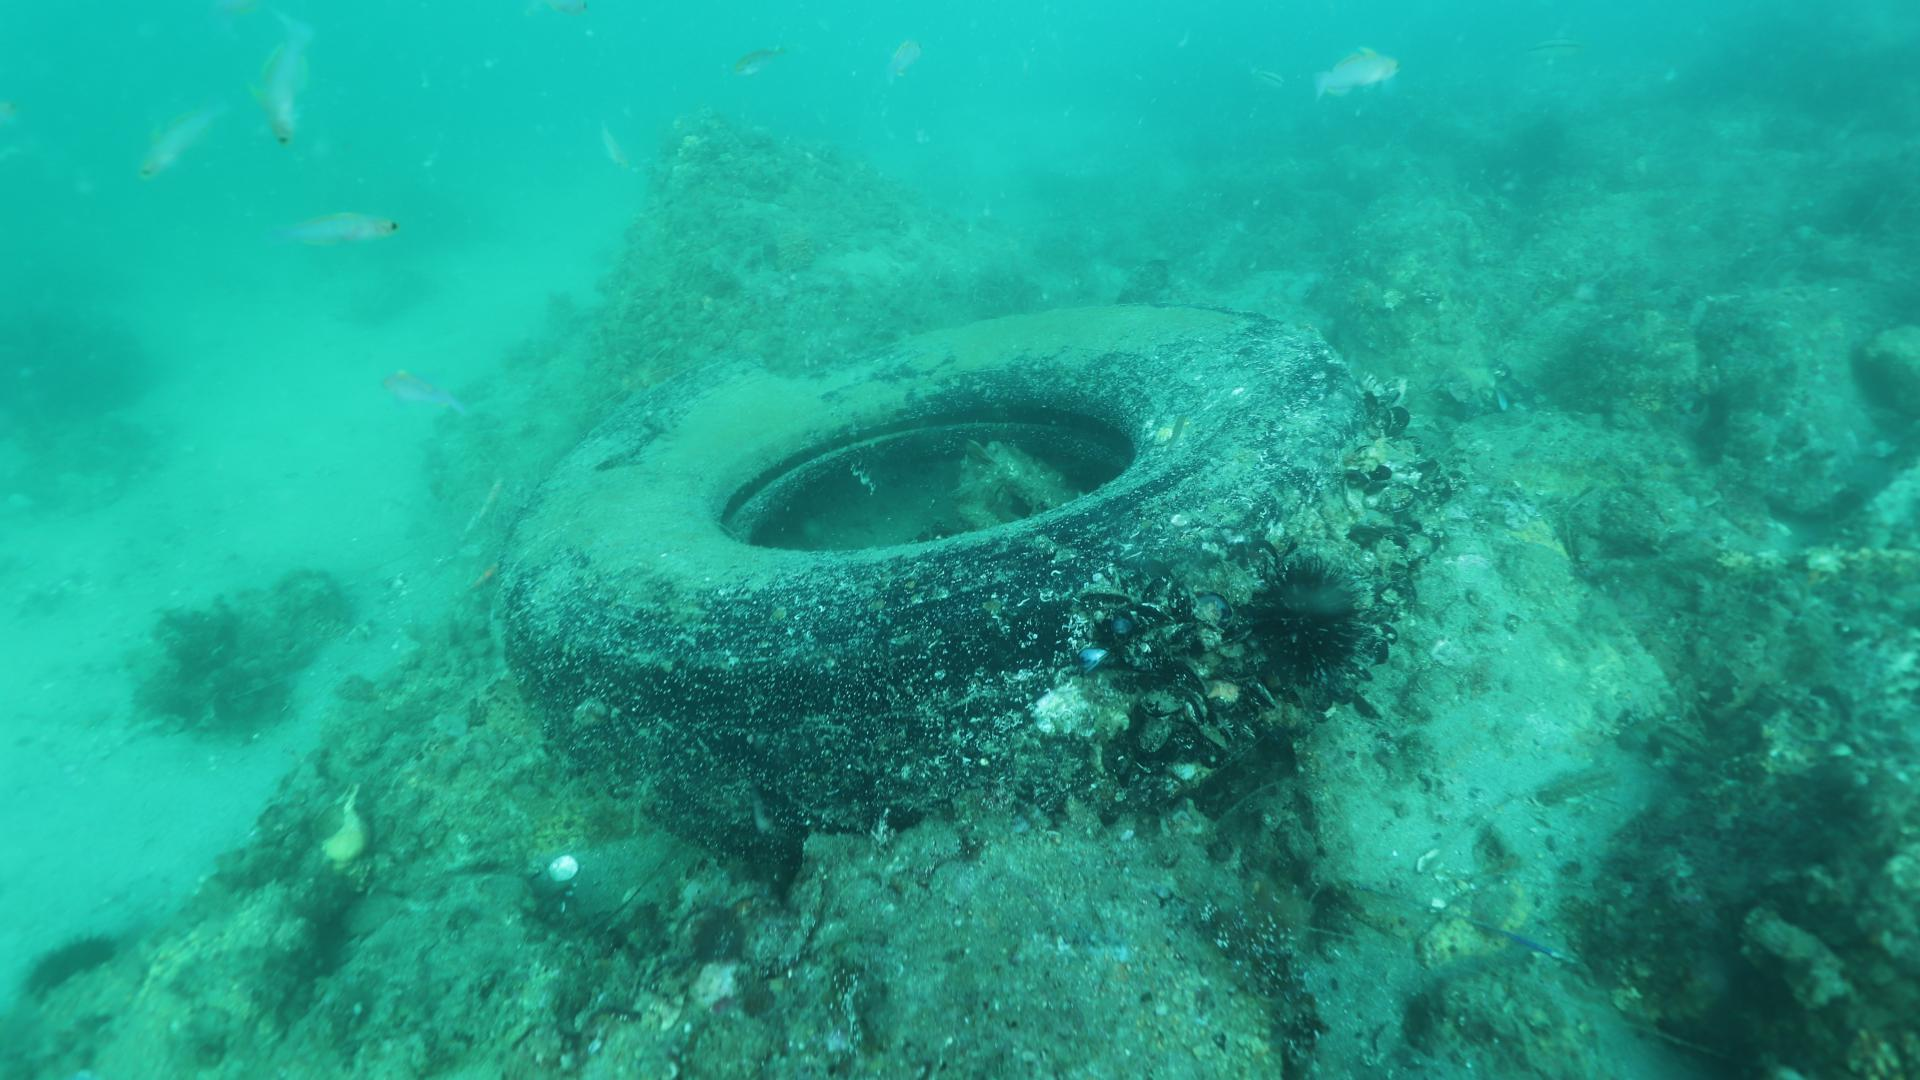tire: (497, 294, 1415, 855)
